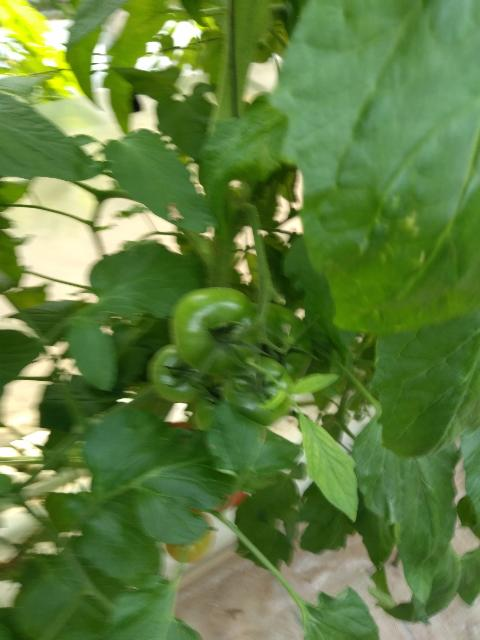b_green: (172, 286, 260, 377), (225, 355, 295, 428), (254, 302, 314, 386), (151, 344, 211, 402)
